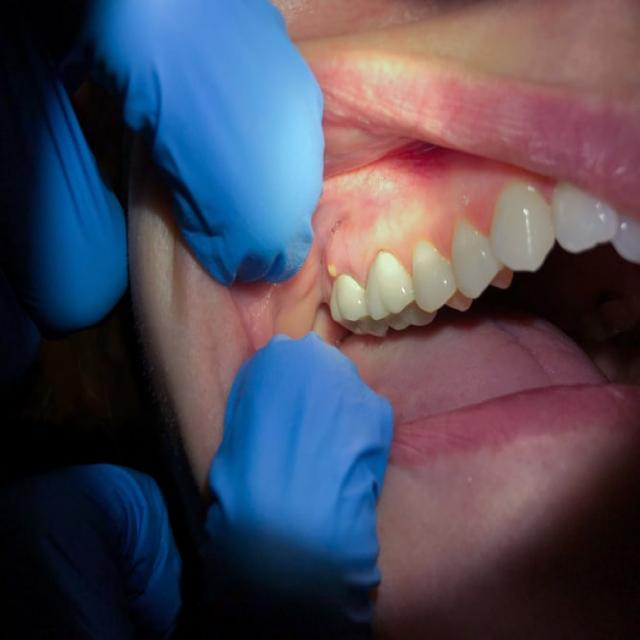abscess: (312, 208, 383, 296)
